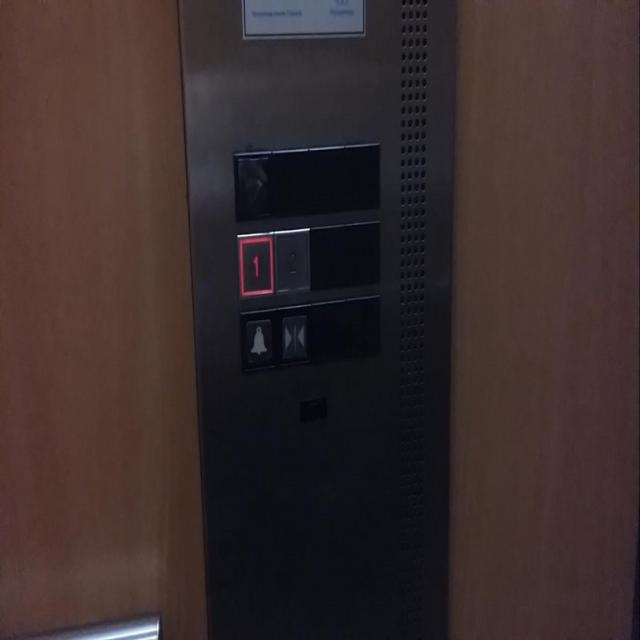1: (234, 227, 278, 301)
2: (272, 226, 314, 295)
alarm: (236, 303, 280, 376)
blur: (230, 145, 276, 219)
close: (274, 299, 314, 370)
empty: (269, 143, 315, 221), (308, 141, 349, 216), (342, 136, 382, 212), (307, 219, 349, 290), (309, 295, 349, 367), (344, 215, 382, 290), (344, 292, 382, 365)
